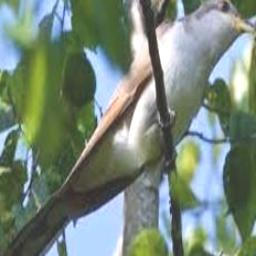Cuckoo: (0, 0, 254, 256)
